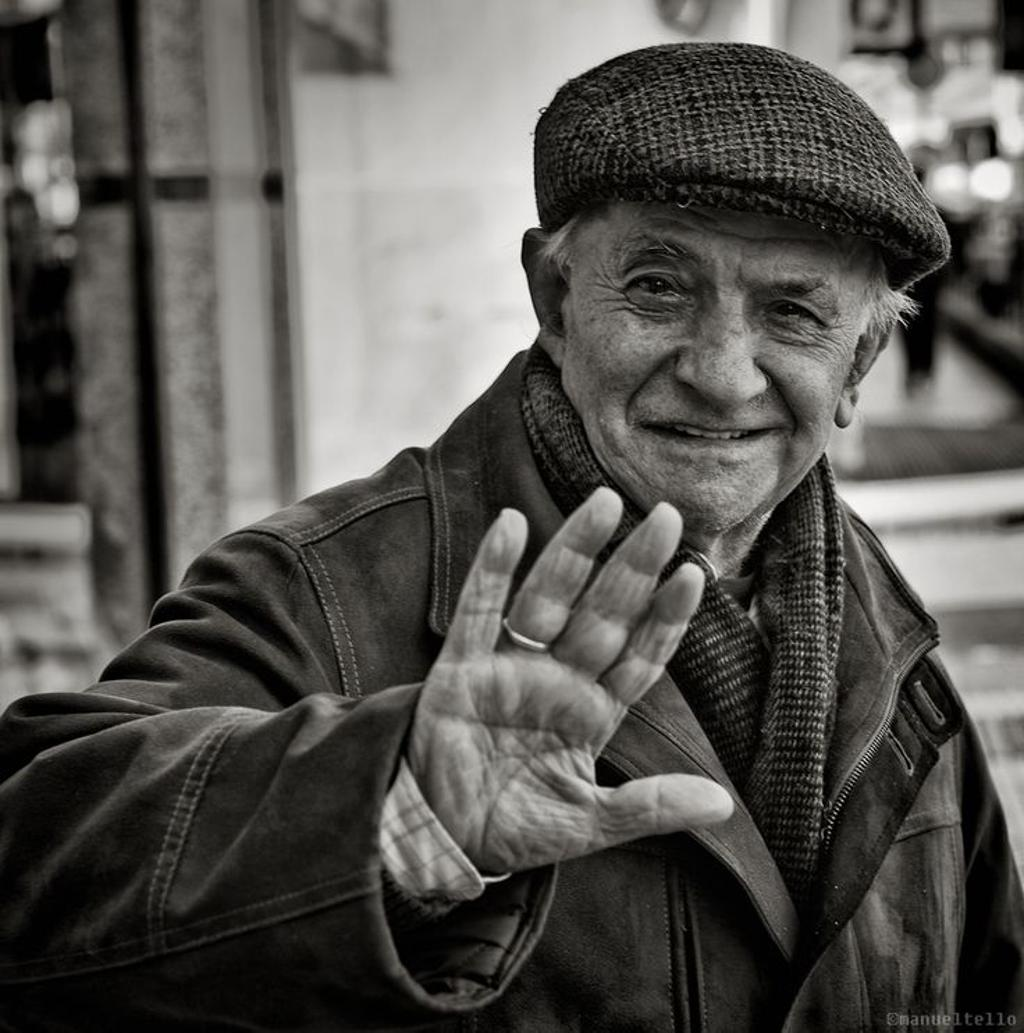face: (574, 143, 874, 516)
